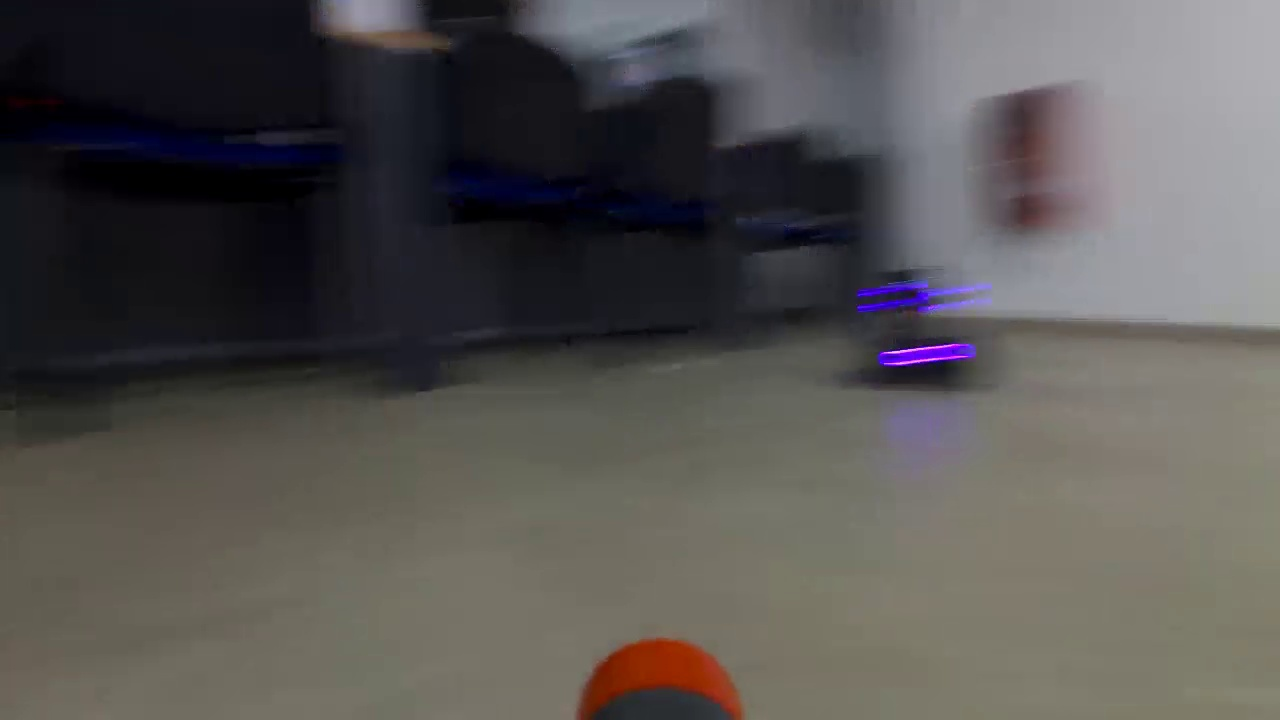robot: (838, 265, 995, 390)
